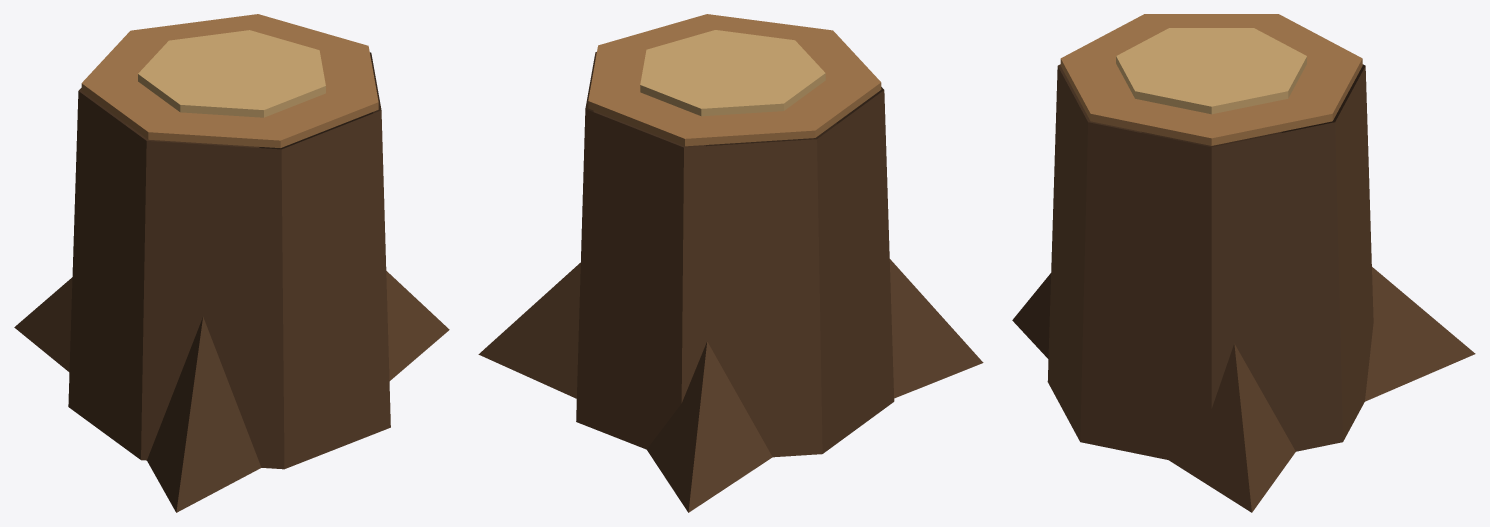
The model's file is pine_stump.glb.
The picture shows the model from 3 angles, left to right: view 1: azimuth 30°, elevation 25°; view 2: azimuth 150°, elevation 25°; view 3: azimuth 270°, elevation 25°; orthographic projection.
Visible parts, largest first — view 1: pine_stump; view 2: pine_stump; view 3: pine_stump.
Part boxes in pixels (<box>): pine_stump: <box>14,14,449,512</box>; pine_stump: <box>478,14,983,512</box>; pine_stump: <box>1012,14,1475,512</box>.
Size of the model in its own units: 0.6509 by 0.524 by 0.662.
Materials: 1 (1 with a texture image).
